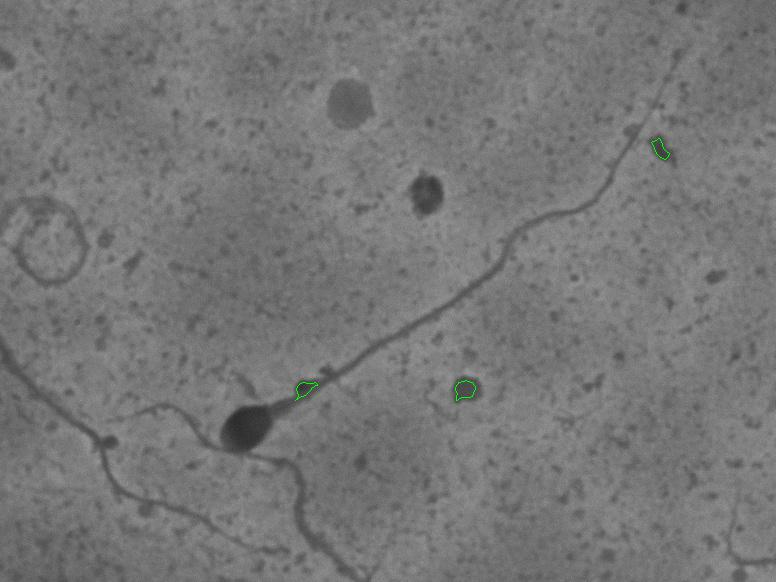Normal: (201, 46, 682, 470)
